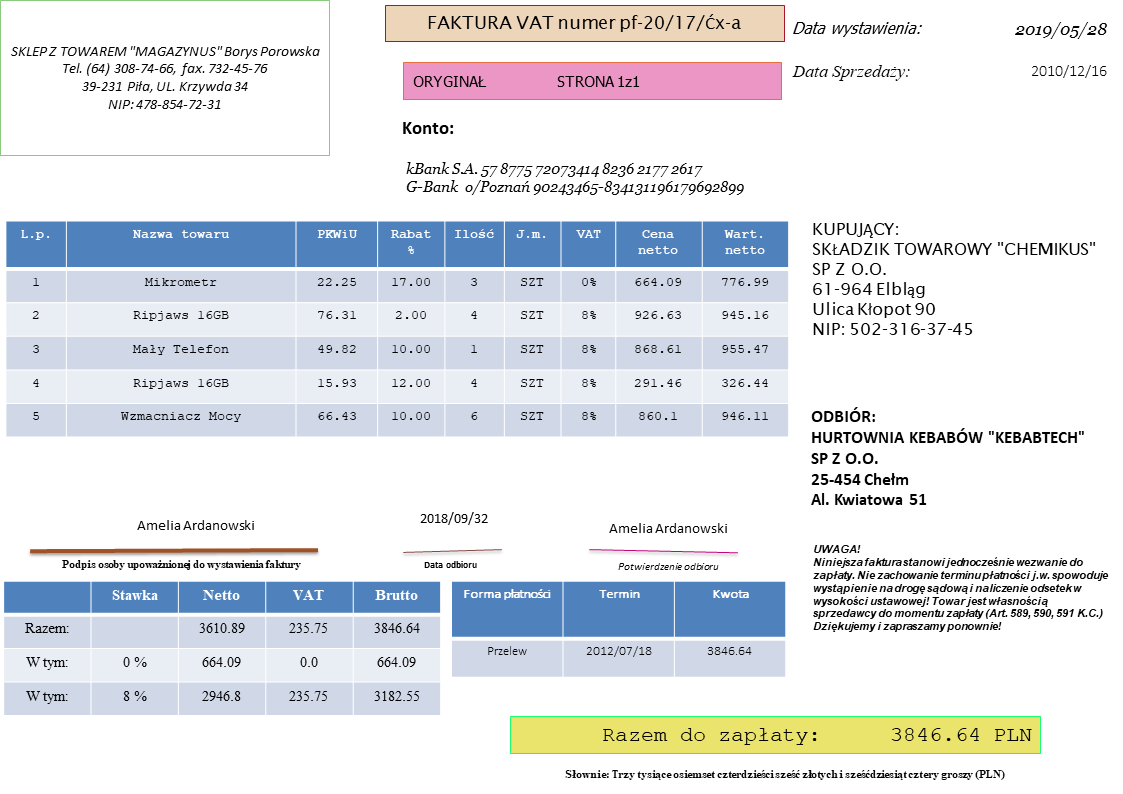Table: (3, 219, 790, 438), (2, 579, 440, 716), (450, 580, 786, 678)
TextBox: (808, 218, 1099, 339), (809, 405, 1088, 509), (810, 541, 1111, 633), (9, 42, 322, 112), (403, 159, 748, 198), (600, 725, 1033, 747), (425, 11, 744, 34), (563, 766, 1006, 782), (412, 72, 642, 91), (59, 556, 301, 572), (791, 16, 923, 40), (790, 62, 912, 82), (1012, 19, 1109, 41), (135, 517, 256, 534), (607, 521, 729, 535), (615, 559, 721, 573), (1029, 62, 1108, 79), (418, 510, 489, 527), (400, 118, 454, 138), (421, 558, 477, 571)
